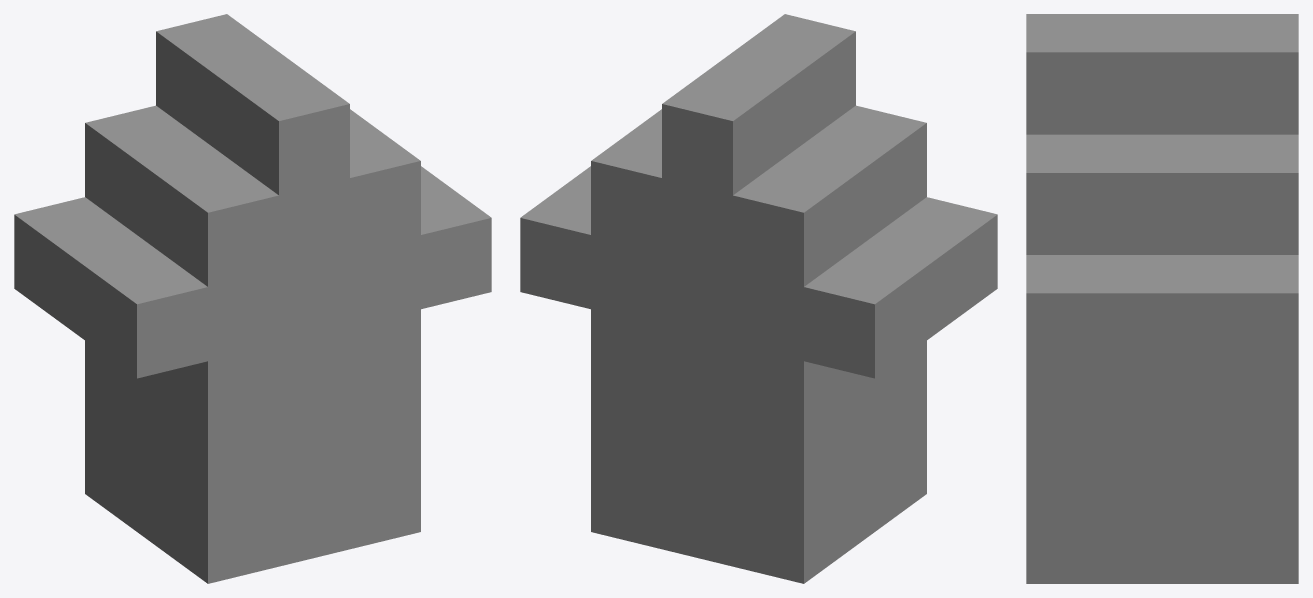
Rendered from house.fbx.
The picture shows the model from 3 angles, left to right: view 1: azimuth 30°, elevation 25°; view 2: azimuth 150°, elevation 25°; view 3: azimuth 270°, elevation 25°; orthographic projection. The views are drawn at different scales.
Parts seen in each view (by area): view 1: cube30, cube47, cube29, cube62, cube33, cube16, cube24, cube37, cube28, cube32, cube31, cube45 (+17 smaller); view 2: cube31, cube46, cube28, cube65, cube38, cube8, cube22, cube36, cube29, cube32, cube45, cube30 (+17 smaller); view 3: cube31, cube30, cube35, cube23, cube22, cube24, cube37, cube32, cube36, cube43, cube42, cube41 (+6 smaller).
Part boxes in pixels (x1,y1,x2,y2): cube30: [238, 74, 349, 195]; cube47: [167, 165, 278, 286]; cube29: [96, 257, 207, 378]; cube62: [167, 480, 278, 583]; cube33: [167, 406, 278, 509]; cube16: [167, 344, 278, 435]; cube24: [421, 188, 491, 309]; cube37: [350, 131, 420, 252]; cube28: [14, 197, 125, 318]; cube32: [197, 44, 308, 164]; cube31: [156, 14, 267, 134]; cube45: [126, 135, 237, 256]; cube31: [662, 74, 773, 195]; cube46: [733, 165, 844, 286]; cube28: [804, 257, 915, 378]; cube65: [733, 480, 844, 583]; cube38: [733, 406, 844, 509]; cube8: [733, 344, 844, 435]; cube22: [520, 188, 590, 309]; cube36: [591, 131, 661, 252]; cube29: [886, 197, 997, 318]; cube32: [703, 44, 814, 164]; cube45: [774, 135, 885, 256]; cube30: [744, 14, 855, 134]; cube31: [1208, 14, 1298, 134]; cube30: [1026, 14, 1116, 134]; cube35: [1117, 134, 1207, 254]; cube23: [1117, 255, 1207, 375]; cube22: [1208, 255, 1298, 375]; cube24: [1026, 255, 1116, 375]; cube37: [1026, 134, 1116, 254]; cube32: [1117, 14, 1207, 134]; cube36: [1208, 134, 1298, 254]; cube43: [1026, 419, 1116, 501]; cube42: [1117, 419, 1207, 501]; cube41: [1208, 419, 1298, 501].
Size of the model in its own units: 5 by 6 by 3.
